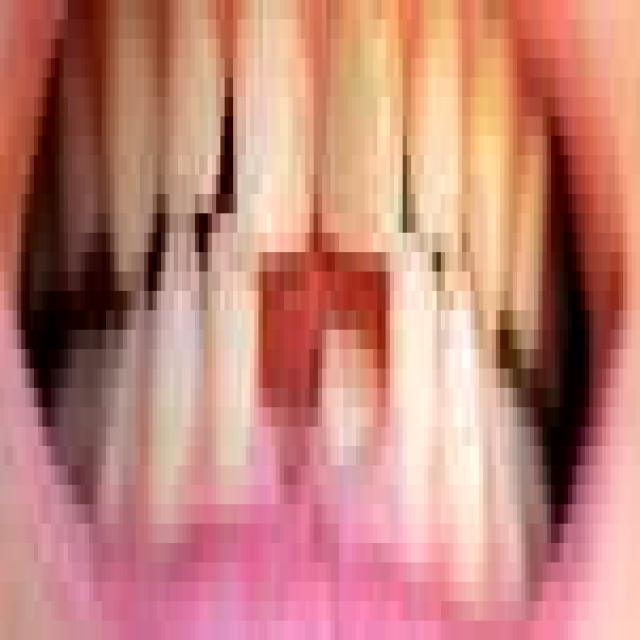hypodontia: (238, 253, 394, 554)
